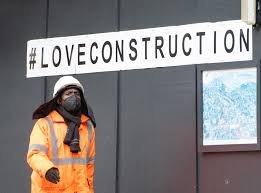Helmet: (52, 76, 83, 89)
Jacket: (38, 118, 97, 193)
Mask: (61, 97, 83, 117)
